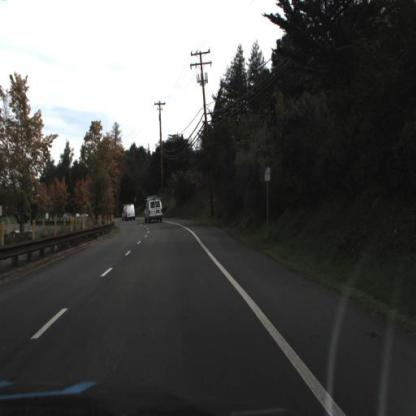car: (144, 196, 166, 223), (119, 201, 136, 221), (61, 209, 75, 221)
